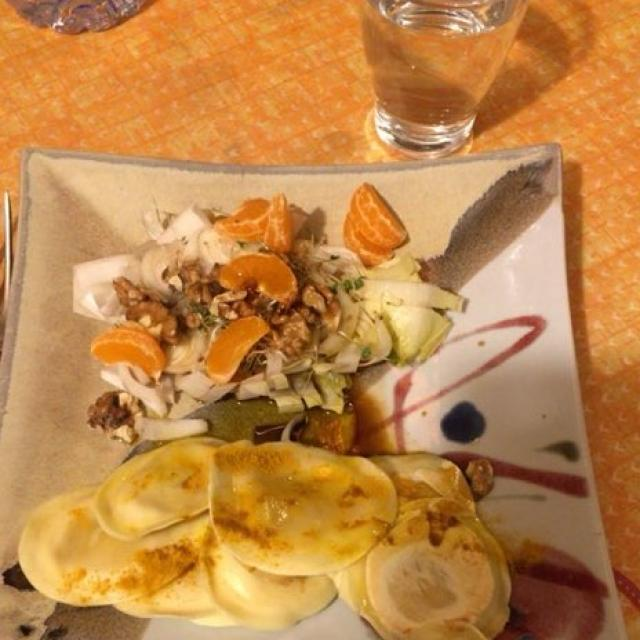mandarine: (106, 184, 377, 374)
nuts: (86, 261, 385, 437)
witloof-chicory: (60, 213, 478, 440)
